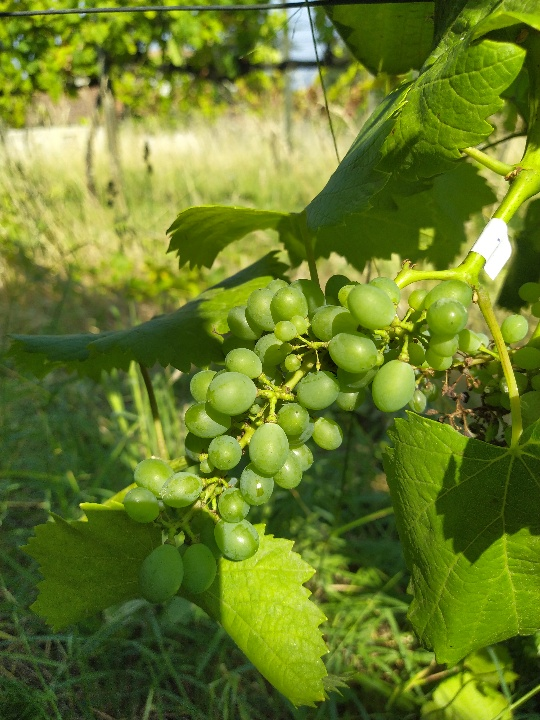grape: (122, 270, 490, 610)
